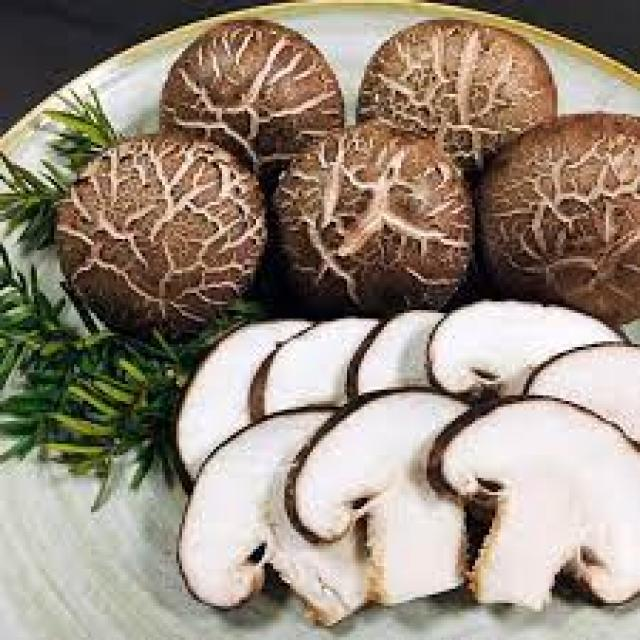Mushroom: (57, 139, 267, 334), (273, 122, 475, 313)
